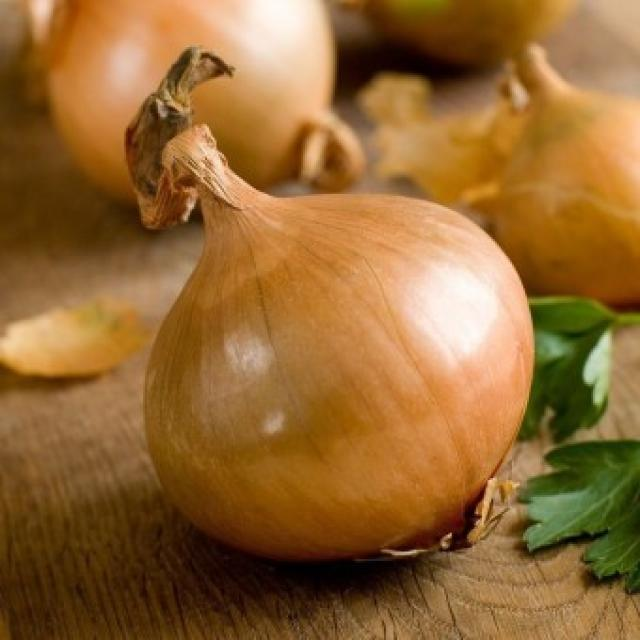onion: (123, 47, 536, 567), (43, 0, 338, 206), (483, 89, 640, 309)
